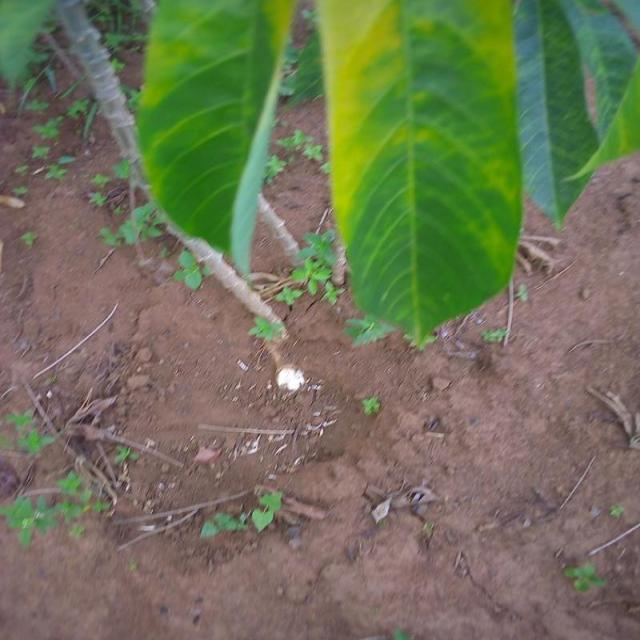cassava leaf: (315, 0, 524, 350), (134, 0, 293, 279)
